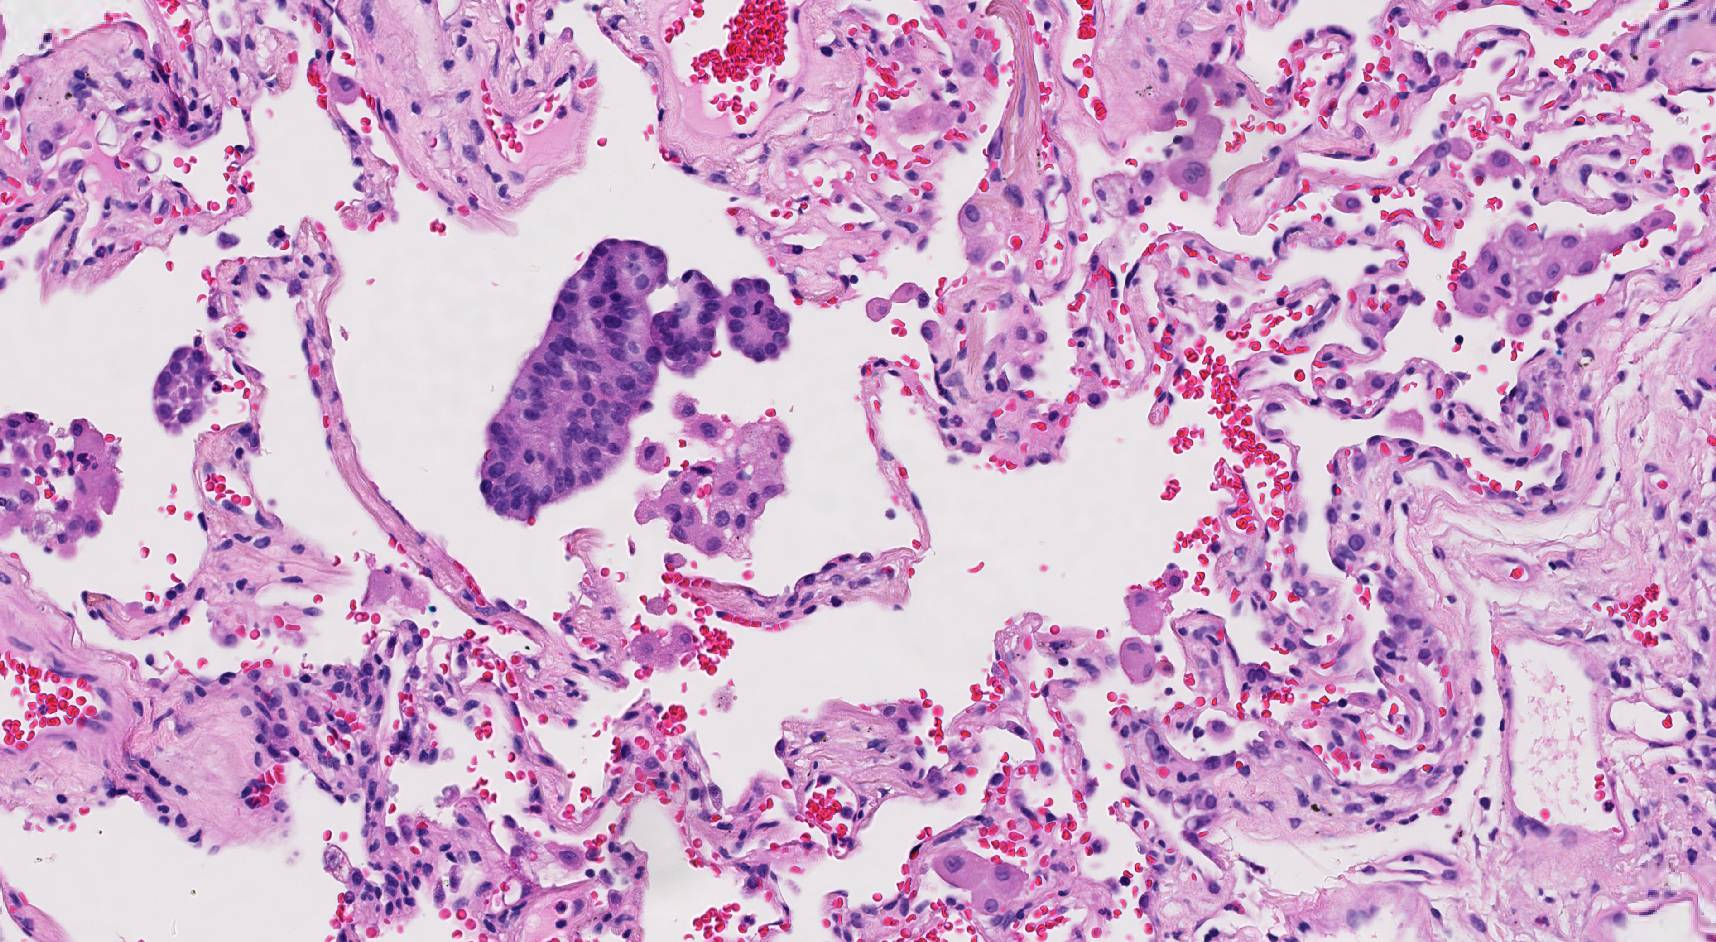stas: (478, 233, 789, 527), (150, 349, 213, 437)
